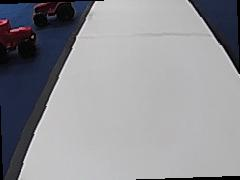Tracktor: (0, 13, 37, 62), (30, 1, 76, 27)
